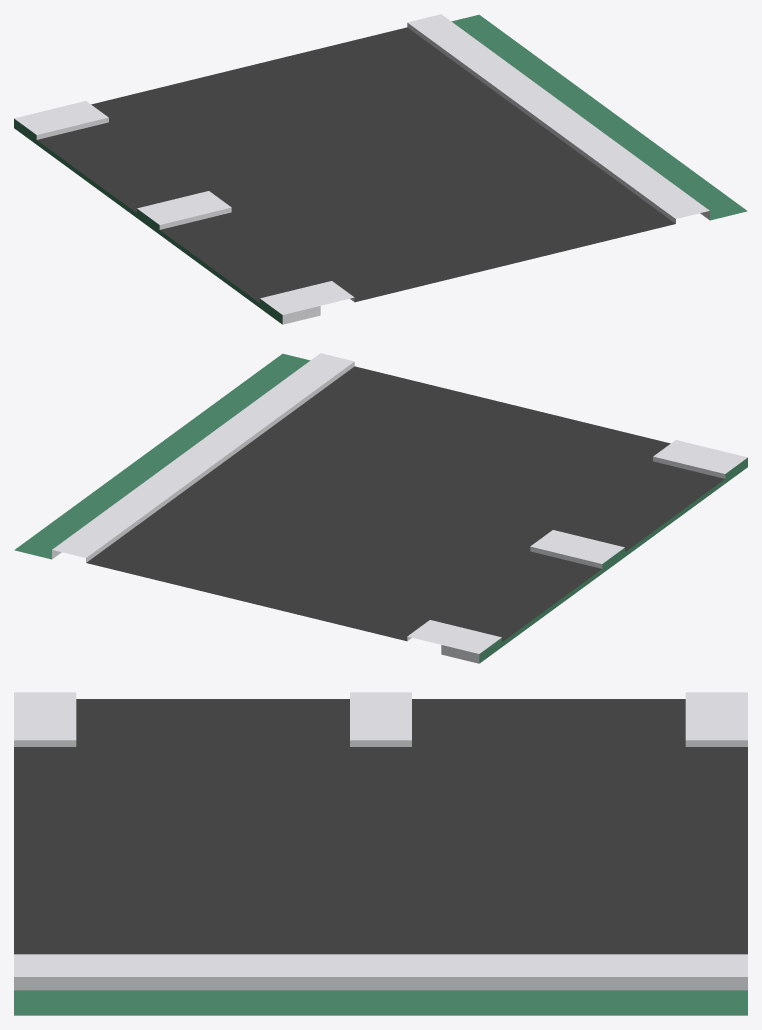
Rendered from roadPitGarage.obj.
The picture shows the model from 3 angles, top to bottom: view 1: azimuth 30°, elevation 25°; view 2: azimuth 150°, elevation 25°; view 3: azimuth 270°, elevation 25°; orthographic projection. The views are drawn at different scales.
Parts seen in each view (by area): view 1: roadPitGarage; view 2: roadPitGarage; view 3: roadPitGarage.
Boxes of the visible parts, x1=… form: roadPitGarage: x1=14, y1=14, x2=747, y2=324; roadPitGarage: x1=14, y1=353, x2=747, y2=663; roadPitGarage: x1=14, y1=692, x2=747, y2=1015.
Bounding box in the file's own units: 1 × 0.02 × 1.
